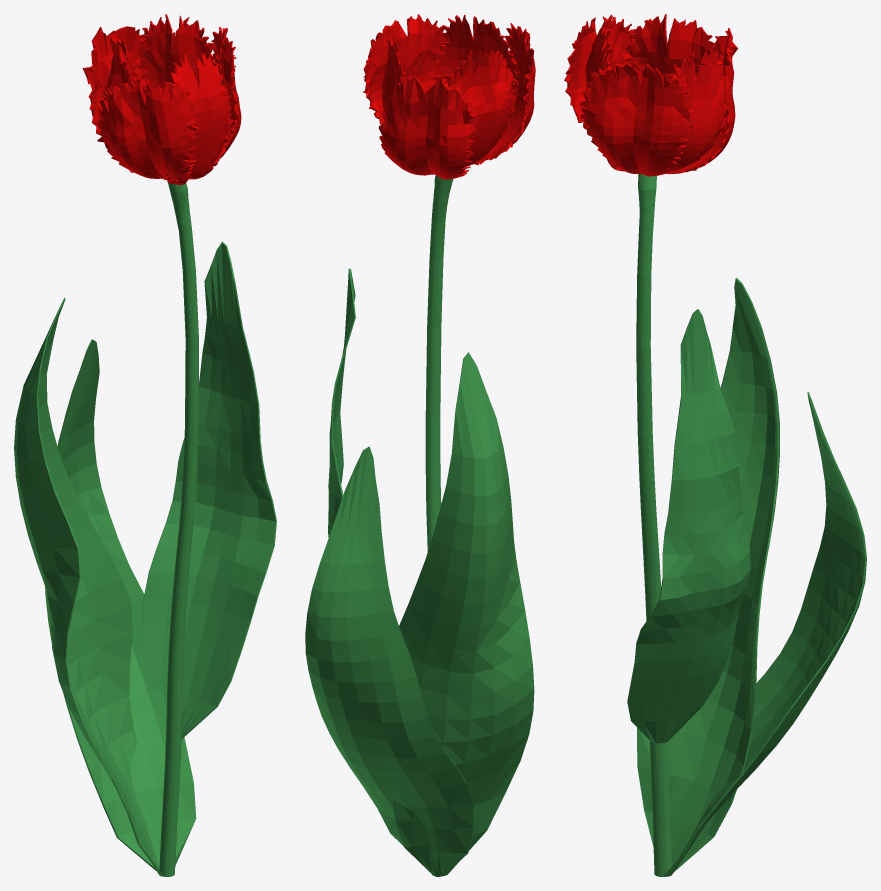
Rendered from tulipe.rouge.fbx.
The picture shows the model from 3 angles, left to right: view 1: azimuth 30°, elevation 25°; view 2: azimuth 150°, elevation 25°; view 3: azimuth 270°, elevation 25°; orthographic projection.
Visible parts, largest first — view 1: Flaming_P0, Flaming_P1, Flaming_Pa, Flaming_10, Flaming_P9, Flaming_P4, Flaming_P6, Flaming_P7, Flaming_P5, Flaming_P8; view 2: Flaming_P1, Flaming_Pa, Flaming_P7, Flaming_10, Flaming_P8, Flaming_P5, Flaming_P4, Flaming_P9, Flaming_P0, Flaming_P6; view 3: Flaming_P0, Flaming_P1, Flaming_Pa, Flaming_P5, Flaming_10, Flaming_P6, Flaming_P8, Flaming_P9, Flaming_P7, Flaming_P4.
Boxes of the visible parts, x1,y1,x2,y2 form: Flaming_P0: (142, 241, 276, 738); Flaming_P1: (14, 298, 162, 876); Flaming_Pa: (45, 339, 196, 870); Flaming_10: (159, 180, 198, 876); Flaming_P9: (96, 76, 198, 179); Flaming_P4: (162, 52, 234, 184); Flaming_P6: (132, 14, 222, 101); Flaming_P7: (82, 26, 146, 135); Flaming_P5: (211, 27, 241, 164); Flaming_P8: (106, 35, 165, 179); Flaming_P1: (392, 352, 534, 876); Flaming_Pa: (305, 446, 473, 875); Flaming_P7: (378, 75, 475, 179); Flaming_10: (425, 175, 453, 875); Flaming_P8: (442, 49, 518, 166); Flaming_P5: (363, 14, 446, 124); Flaming_P4: (431, 14, 518, 105); Flaming_P9: (472, 23, 535, 165); Flaming_P0: (328, 268, 355, 537); Flaming_P6: (381, 36, 405, 110); Flaming_P0: (627, 309, 750, 743); Flaming_P1: (637, 277, 779, 876); Flaming_Pa: (664, 392, 866, 876); Flaming_P5: (580, 61, 693, 176); Flaming_10: (636, 174, 671, 876); Flaming_P6: (655, 47, 727, 175); Flaming_P8: (620, 14, 721, 82); Flaming_P9: (564, 14, 636, 129); Flaming_P7: (666, 28, 737, 174); Flaming_P4: (584, 27, 624, 171).
Size of the model in its own units: 307 by 1159 by 379.
